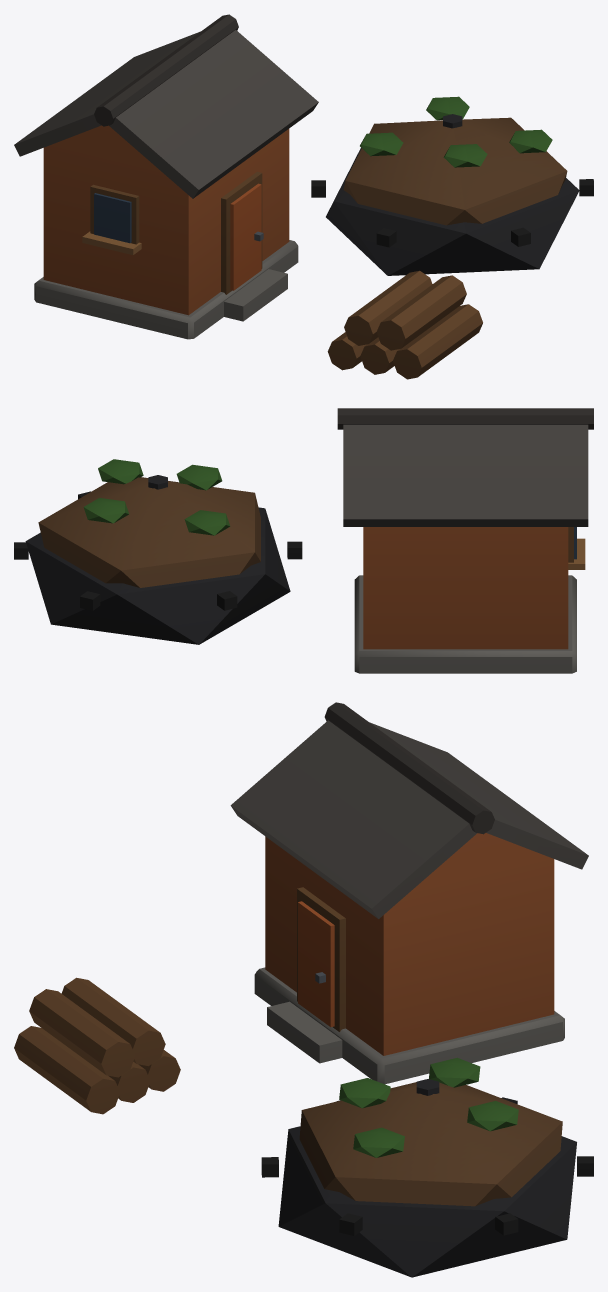
The model's file is building_28.glb.
The picture shows the model from 3 angles, top to bottom: view 1: azimuth 30°, elevation 25°; view 2: azimuth 150°, elevation 25°; view 3: azimuth 270°, elevation 25°; orthographic projection. The views are drawn at different scales.
Parts seen in each view (by area): view 1: building_28; view 2: building_28; view 3: building_28.
Part boxes in pixels (x1=…): building_28: x1=14, y1=14, x2=593, y2=379; building_28: x1=14, y1=408, x2=593, y2=673; building_28: x1=14, y1=702, x2=593, y2=1277.
Bounding box in the file's own units: 1.12 × 0.5617 × 0.8835.
